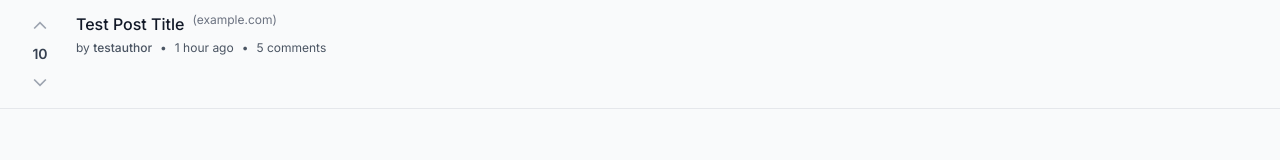
PostItem › handles downvote with optimistic update
Step 1. Click the button named "Downvote" → (40, 82), box [26, 68, 54, 96]
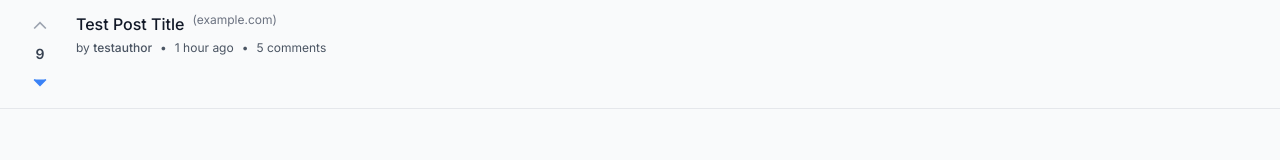
Now the text "9" is shown, box [36, 44, 44, 64]
